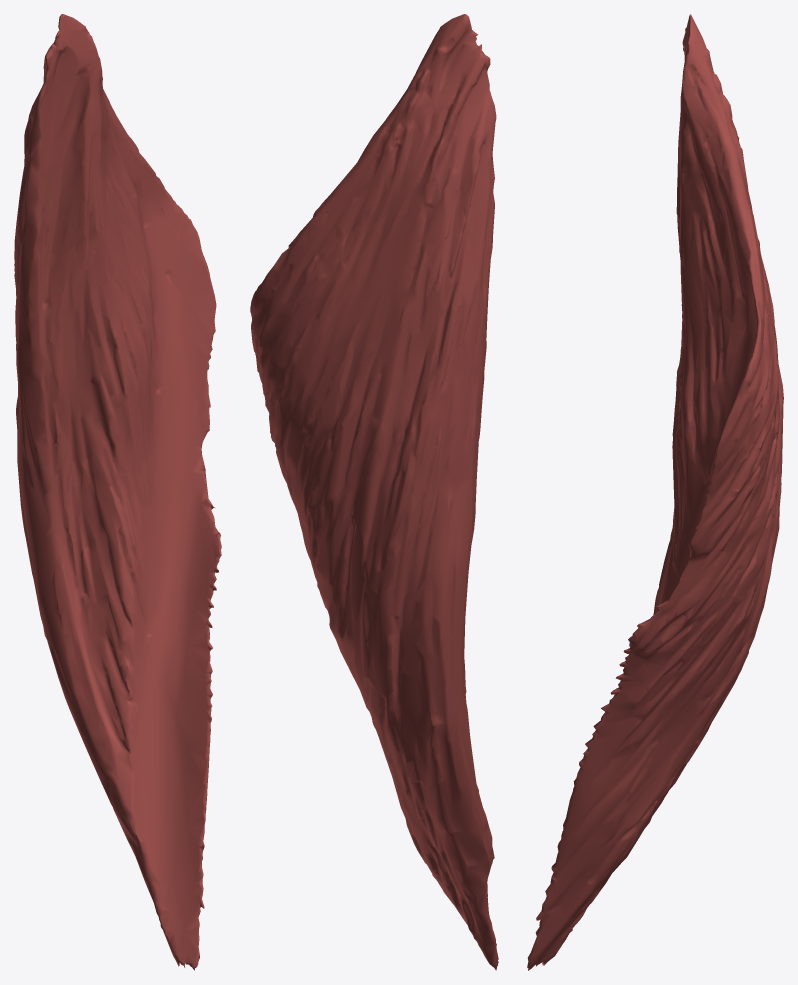
File: FMA37705.glb
3 renders of one model, left to right at view 1: azimuth 30°, elevation 25°; view 2: azimuth 150°, elevation 25°; view 3: azimuth 270°, elevation 25°, orthographic. The views are drawn at different scales.
Visible parts, largest first — view 1: FMA37705; view 2: FMA37705; view 3: FMA37705.
Part boxes in pixels (left/top/right/bottom): FMA37705: left=14, top=14, right=221, bottom=970; FMA37705: left=250, top=14, right=498, bottom=970; FMA37705: left=527, top=14, right=783, bottom=970.
Size of the model in its own units: 0.0231 by 0.1014 by 0.0254.
